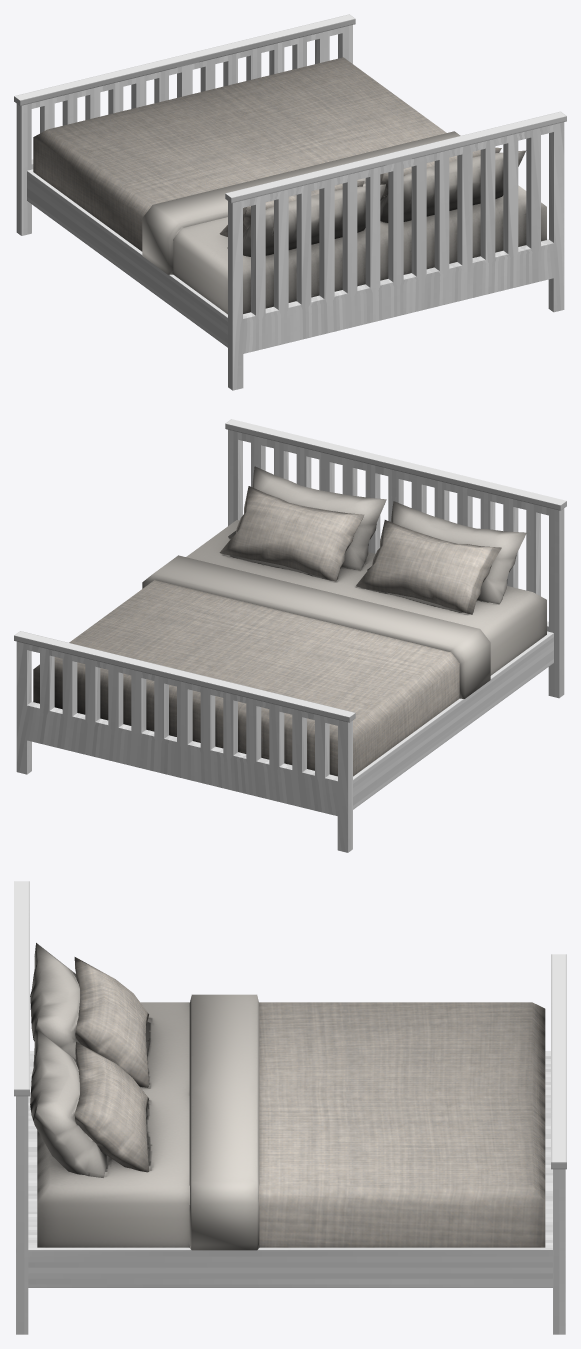
The model's file is FUR0210026.fbx.
The picture shows the model from 3 angles, top to bottom: view 1: azimuth 30°, elevation 25°; view 2: azimuth 150°, elevation 25°; view 3: azimuth 270°, elevation 25°; orthographic projection. The views are drawn at different scales.
Parts seen in each view (by area): view 1: smFUR0210026; view 2: smFUR0210026; view 3: smFUR0210026.
Part boxes in pixels (left/top/right/bottom): smFUR0210026: left=14, top=14, right=566, bottom=390; smFUR0210026: left=14, top=419, right=566, bottom=852; smFUR0210026: left=14, top=881, right=566, bottom=1334.
Bounding box in the file's own units: 260 × 144 × 292.
1 material, 1 textured.
